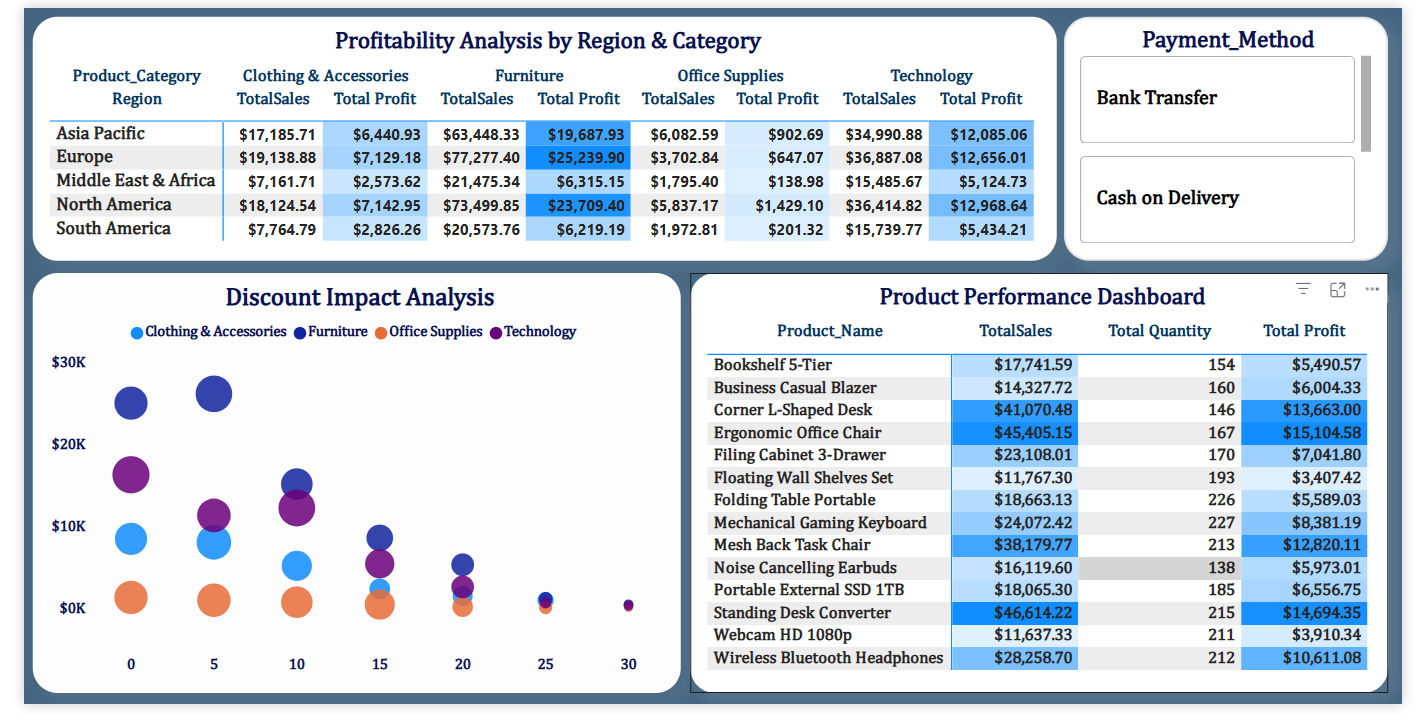

The page's visual inventory and layout, read from the dashboard file:
{"tool":"powerbi","page":{"name":"Page 2","canvas":[1100,550],"ordinal":1},"visuals":[{"type":"pivotTable","title":"Profitability Analysis by Region & Category","fields":{"Rows":["global_ecommerce_sales.Region"],"Columns":["global_ecommerce_sales.Product_Category"],"Values":["global_ecommerce_sales.TotalSales","global_ecommerce_sales.Total Profit"]},"box":[7.5,7.5,818.3,195],"z":0},{"type":"scatterChart","title":"Discount Impact Analysis","fields":{"X":["global_ecommerce_sales.Discount_Percent"],"Y":["global_ecommerce_sales.Total Profit"],"Size":["Sum(global_ecommerce_sales.Quantity)"],"Series":["global_ecommerce_sales.Product_Category"]},"box":[7.5,211.8,517.4,331.8],"z":1000},{"type":"advancedSlicerVisual","fields":{"Values":["global_ecommerce_sales.Payment_Method"]},"box":[832.3,7.5,258.7,195],"z":2000},{"type":"pivotTable","title":"Product Performance Dashboard","fields":{"Rows":["global_ecommerce_sales.Product_Name"],"Values":["global_ecommerce_sales.TotalSales","Sum(global_ecommerce_sales.Quantity)","global_ecommerce_sales.Total Profit"]},"box":[533.5,208.4,557.2,335.4],"z":3000}]}

Visuals, with their boxes in screenshot pixels (x1, y1, x2, y2), scaled from the page's 1100x550 canvas onto the 1424x714 screenshot:
"Profitability Analysis by Region & Category" pivotTable: 10 10 1069 263
"Discount Impact Analysis" scatterChart: 10 275 680 706
advancedSlicerVisual - global_ecommerce_sales.Payment_Method: 1077 10 1412 263
"Product Performance Dashboard" pivotTable: 691 271 1412 706
